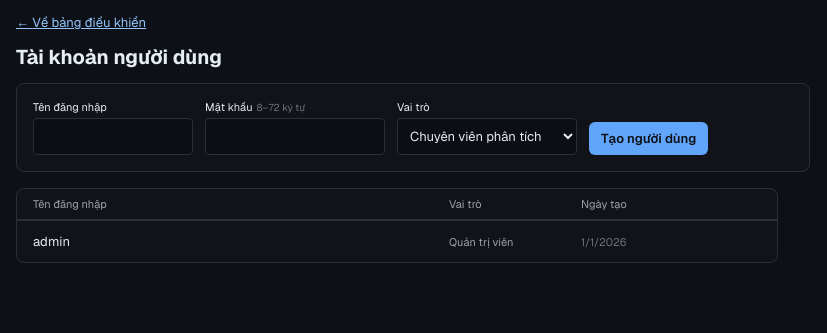
Test: AdminUsersPage › appends the created account without a refetch
The image size is (827, 333).
Expected: the text "admin" is shown, x1=33 y1=233 x2=70 y2=250
In the field labelled "Tên đăng nhập": (113, 137) x1=33 y1=118 x2=193 y2=155, type "newbie"
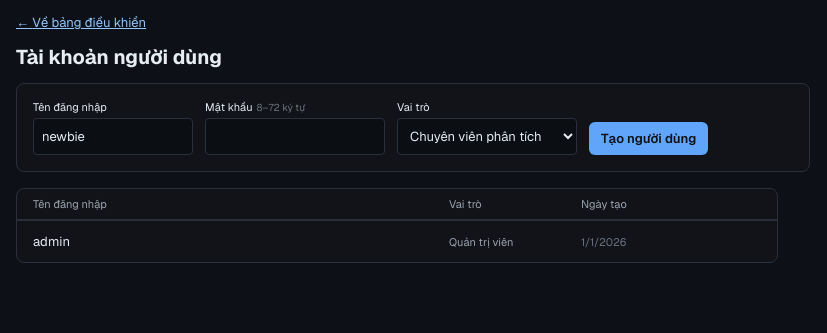
In the password field labelled "Mật khẩu 8–72 ký tự": (295, 137) x1=205 y1=118 x2=385 y2=155, type "password123"
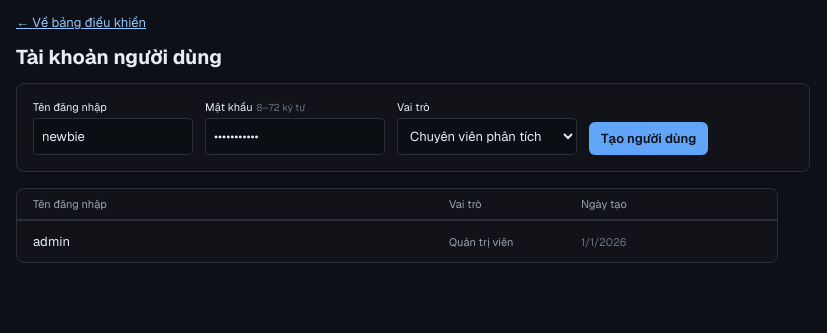
Click the button "Tạo người dùng": (649, 139) x1=589 y1=122 x2=708 y2=155
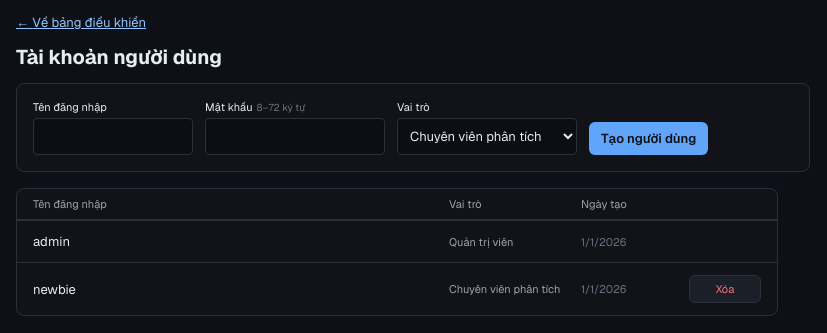
Now the text "newbie" is shown, box x1=33 y1=281 x2=76 y2=298
